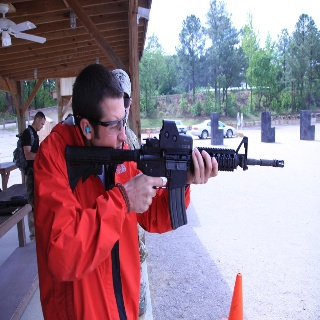rifle: (66, 120, 284, 227)
